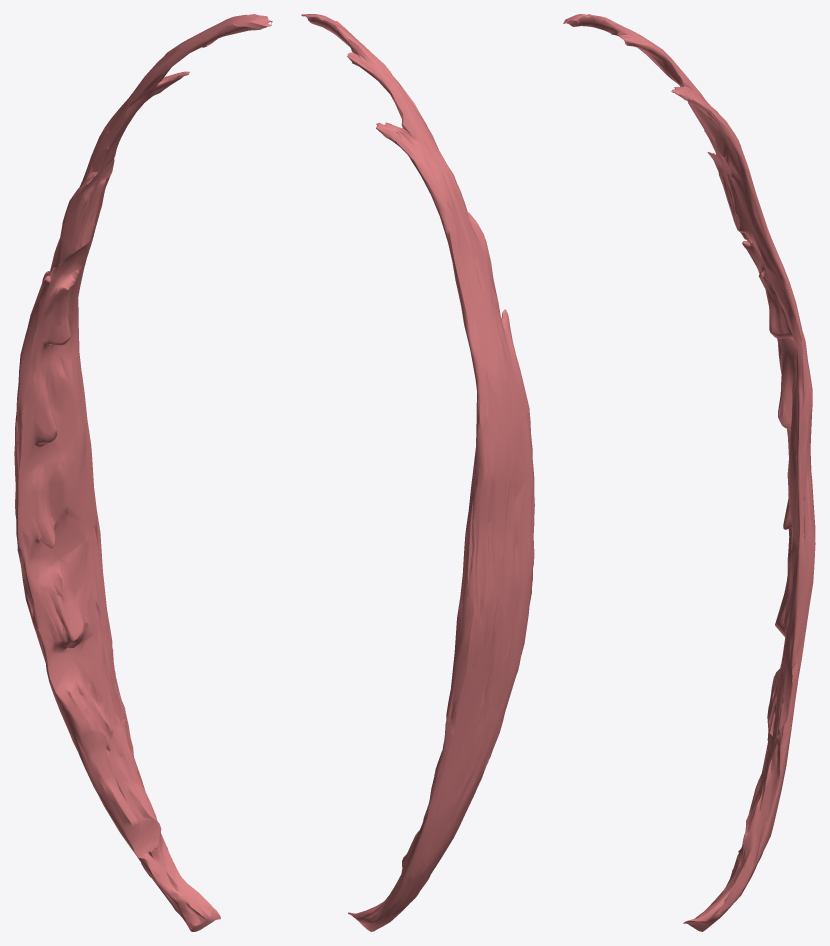
The picture shows the model from 3 angles, left to right: view 1: azimuth 30°, elevation 25°; view 2: azimuth 210°, elevation 25°; view 3: azimuth 270°, elevation 25°; orthographic projection. The views are drawn at different scales.
Parts seen in each view (by area): view 1: FJ1528; view 2: FJ1528; view 3: FJ1528.
Part boxes in pixels (x1,y1,x2,y2): FJ1528: (14, 14, 272, 931); FJ1528: (301, 14, 534, 931); FJ1528: (563, 14, 815, 931).
Bounding box in the file's own units: 0.0499 × 0.3028 × 0.0757.
